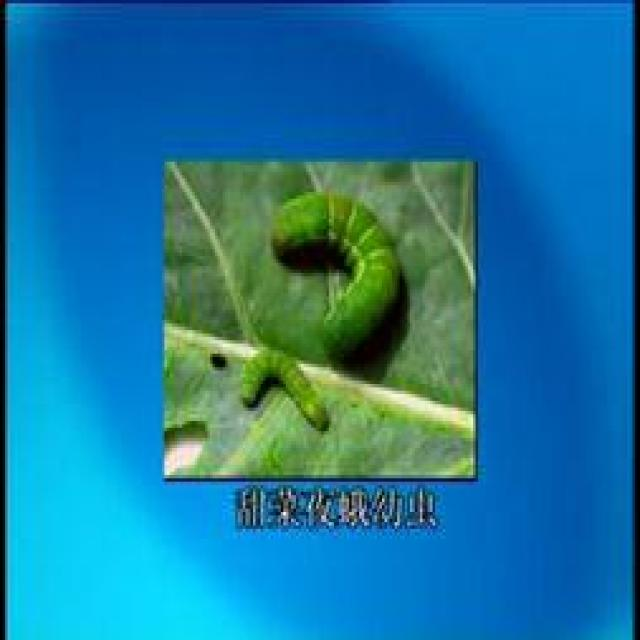BeetArmyWorm-Larva-: (268, 192, 406, 356), (236, 343, 332, 444)
